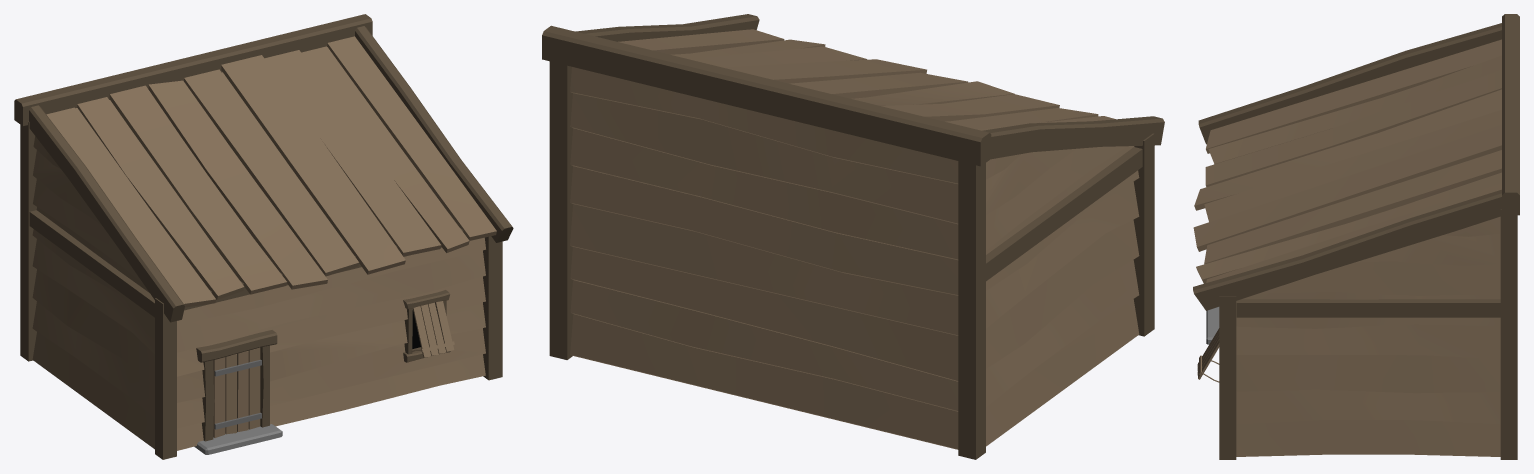
Rendered from village_wood_house_b.FBX.
3 views of the same model, side by side, from view 1: azimuth 30°, elevation 25°; view 2: azimuth 150°, elevation 25°; view 3: azimuth 270°, elevation 25° (orthographic). The views are drawn at different scales.
Visible parts, largest first — view 1: village_wood_house_b; view 2: village_wood_house_b; view 3: village_wood_house_b.
Part boxes in pixels (left/top/right/bottom): village_wood_house_b: left=14, top=14, right=513, bottom=459; village_wood_house_b: left=542, top=14, right=1164, bottom=459; village_wood_house_b: left=1193, top=14, right=1519, bottom=459.
Bounding box in the file's own units: 7.52 × 5.3 × 5.81.
